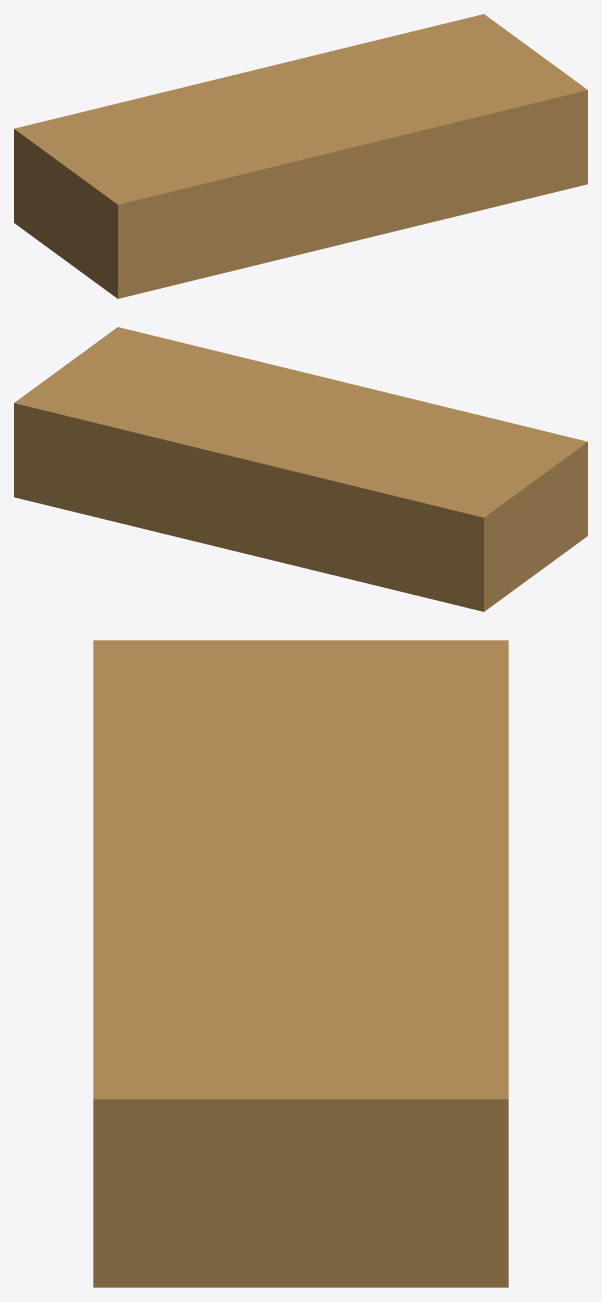
3 views of the same model, one above another, from view 1: azimuth 30°, elevation 25°; view 2: azimuth 150°, elevation 25°; view 3: azimuth 270°, elevation 25° (orthographic). The views are drawn at different scales.
Parts seen in each view (by area): view 1: RUN-040-S01-NOG-00; view 2: RUN-040-S01-NOG-00; view 3: RUN-040-S01-NOG-00.
Part boxes in pixels (left/top/right/bottom): RUN-040-S01-NOG-00: left=14, top=14, right=587, bottom=298; RUN-040-S01-NOG-00: left=14, top=327, right=587, bottom=611; RUN-040-S01-NOG-00: left=93, top=640, right=508, bottom=1287.
Size of the model in its own units: 0.235 by 0.045 by 0.09.
